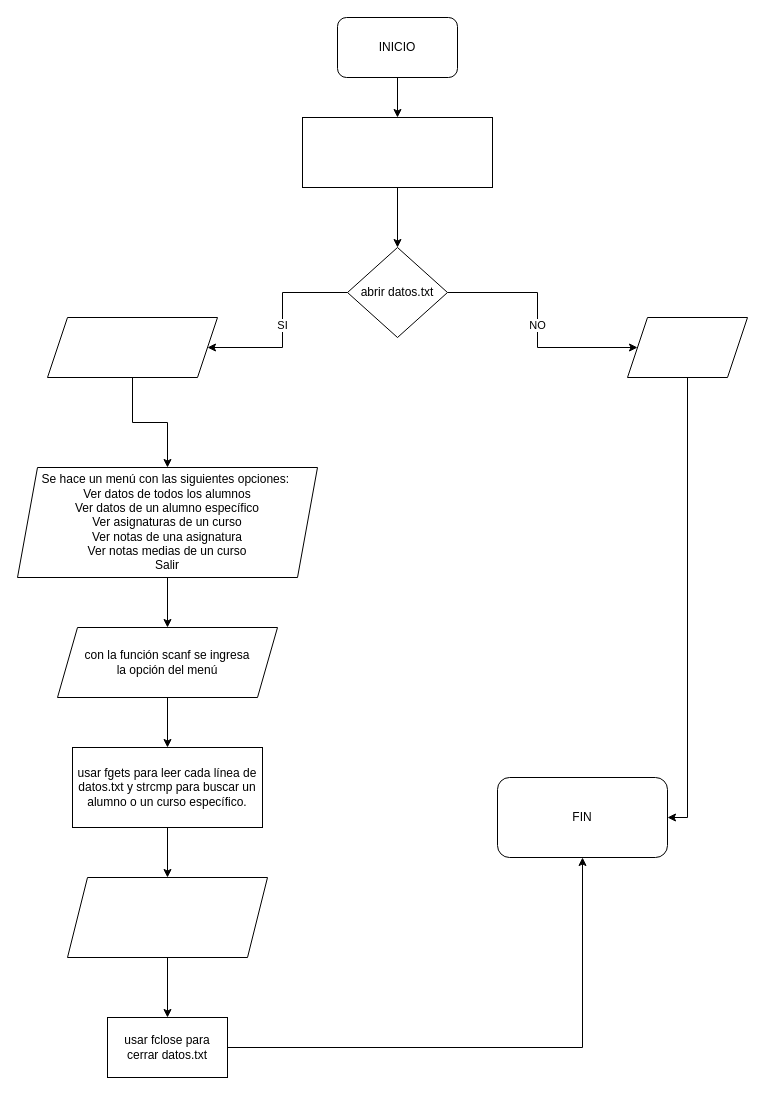
This 765x1095 diagram has some shape labels left out. Each missing label, with the centre of its shape:
Abre archivo datos.txt en modo lectura usando la función fopen: pixel 397 152
crea un arreglo de estructuras alumno llamada "alumnos": pixel 132 347
imprimir los datos encontrados: pixel 167 917
mensaje de error: pixel 687 347
